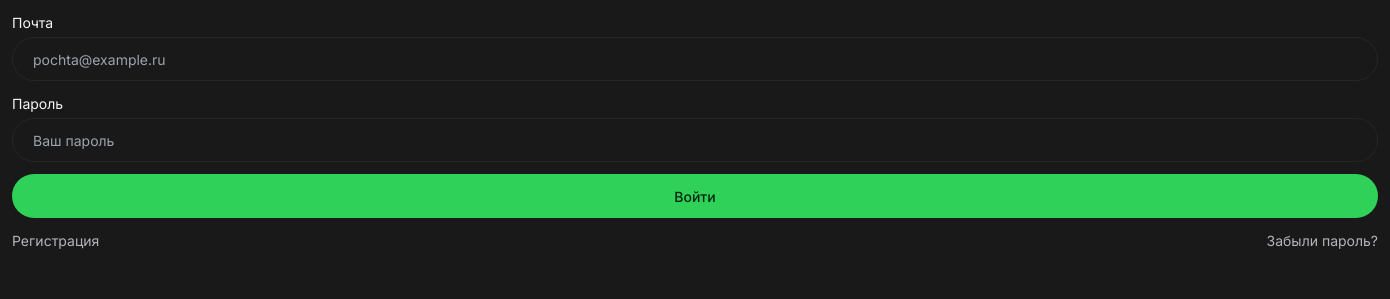
it: EmailAuthForm: вход › shows the server error
This screenshot has width=1390, height=299.
Type "a@ya.ru" into the field labelled "Почта" at coordinates (695, 59), box x1=12 y1=37 x2=1378 y2=81
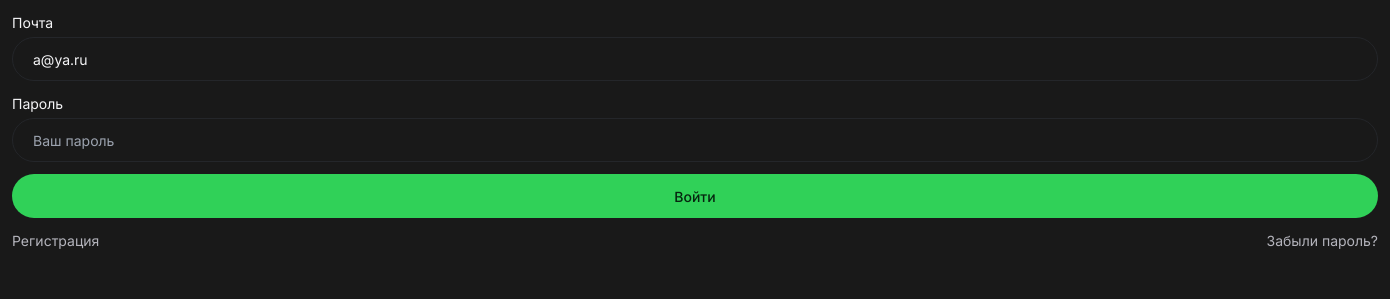
Type "wrong-password" into the password field labelled "Пароль" at coordinates (695, 140), box x1=12 y1=118 x2=1378 y2=162
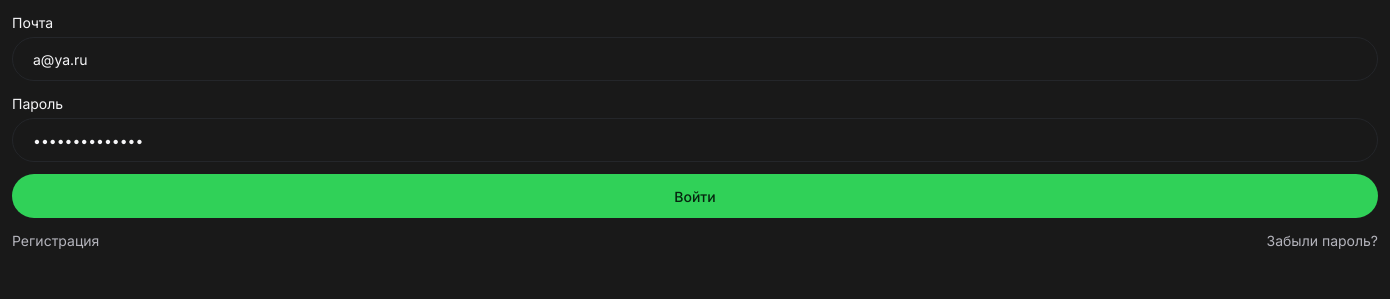
Click the button "Войти" at coordinates (695, 196), box x1=12 y1=174 x2=1378 y2=218
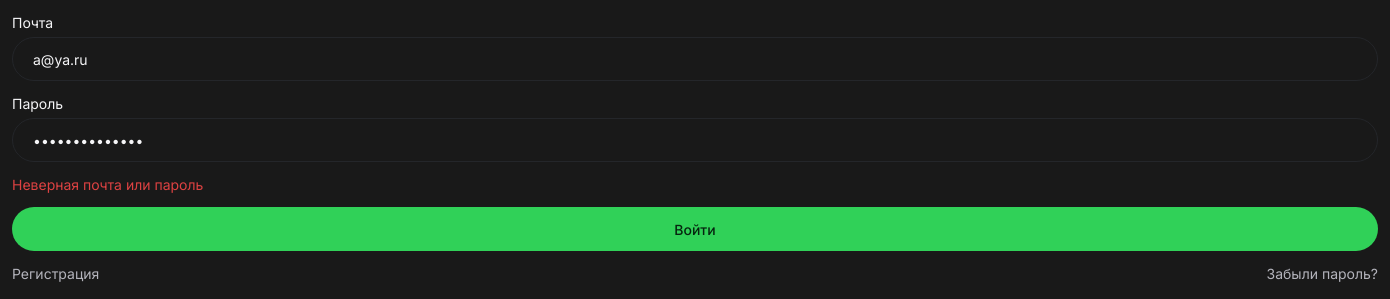
Result: the text "Неверная почта или пароль" is shown at x1=12 y1=176 x2=203 y2=193
